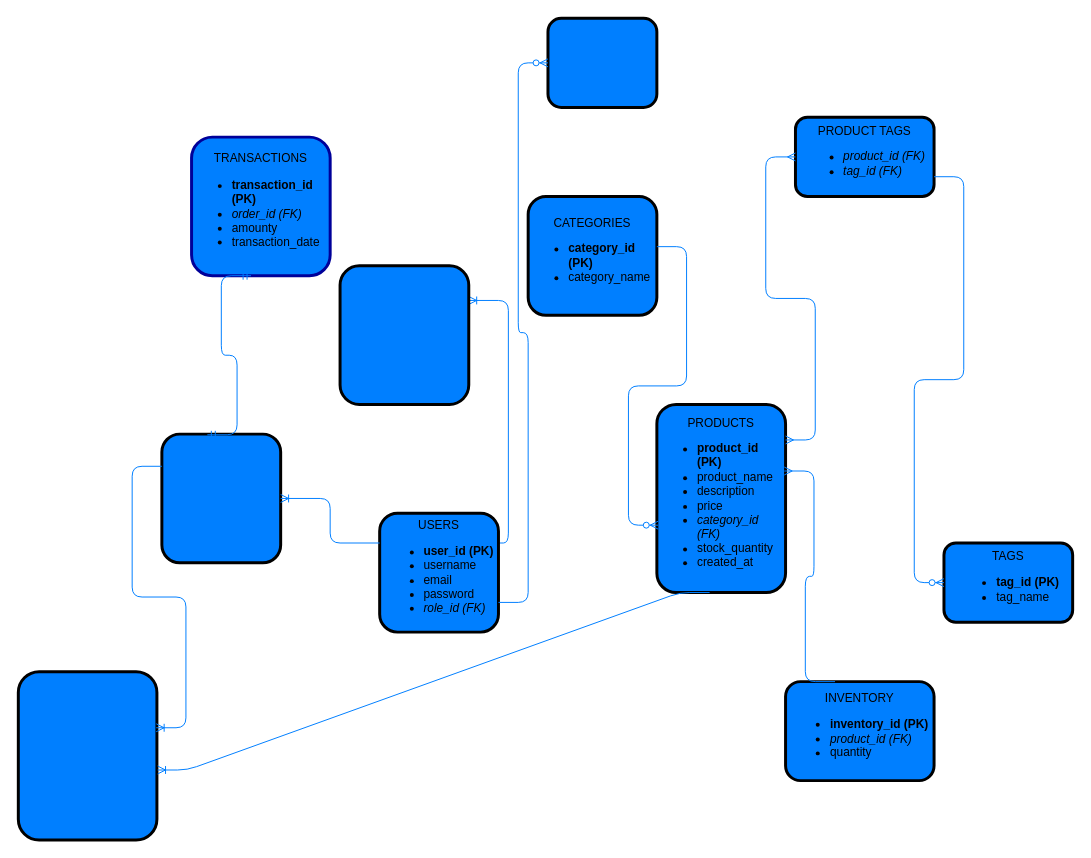
Some shapes in this 1091 by 858 pixel diagram are drawn without their labels. The shapes that lost their labels are listed below. From the top down, each one's centre as x and y in pixels, then its label:
[602,62]: ROLES role_id (PK) role_name
[404,334]: REVIEWS review_id (PK) product_id (FK) user_id (FK) rating comment created_at
[221,498]: ORDERS order_id (PK) user_id (FK) order_date status total
[87,755]: ORDER ITEMS order_item_id (PK) order_id (FK) product_id (FK) quantity price
